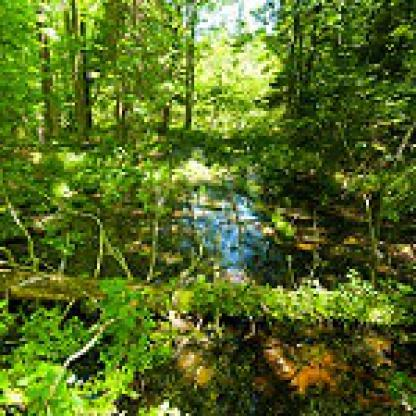trunk: (3, 252, 413, 341), (36, 28, 61, 138), (80, 22, 92, 136), (183, 36, 194, 128)
water: (11, 172, 413, 413)
